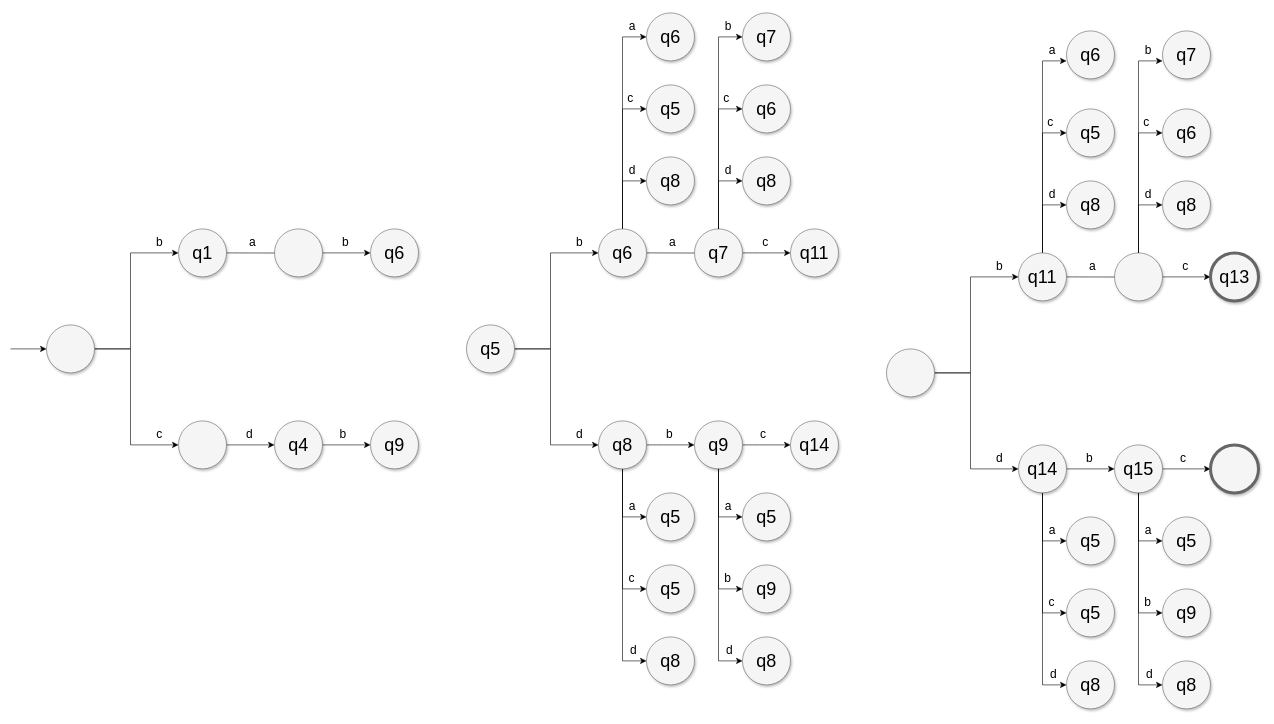
Image size: 1274x724. Some labels were removed from this diagram. The shapes that lost their labels are listed below. From the top down, each one's centre as x and y in pixels, then its label:
the point at 299,253: q2
the point at 1139,277: q12
the point at 71,349: q0
the point at 911,373: q10
the point at 203,445: q3
the point at 1234,469: q16
